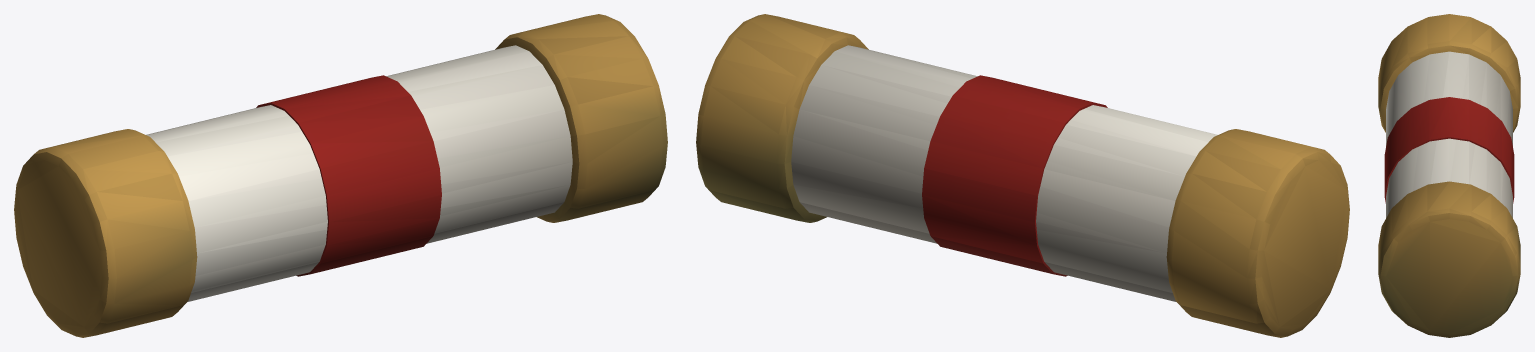
File: Fuse.glb
3 renders of one model, left to right at view 1: azimuth 30°, elevation 25°; view 2: azimuth 150°, elevation 25°; view 3: azimuth 270°, elevation 25°, orthographic. The views are drawn at different scales.
Parts seen in each view (by area): view 1: Fuse_brass, Fuse_ceramic, Fuse_paint_red; view 2: Fuse_brass, Fuse_ceramic, Fuse_paint_red; view 3: Fuse_brass, Fuse_ceramic, Fuse_paint_red.
Boxes of the visible parts, x1,y1,x2,y2 form: Fuse_brass: (14,14,667,337); Fuse_ceramic: (146,45,572,301); Fuse_paint_red: (256,75,441,276); Fuse_brass: (696,14,1349,337); Fuse_ceramic: (791,45,1217,301); Fuse_paint_red: (922,75,1107,276); Fuse_brass: (1378,14,1520,337); Fuse_ceramic: (1386,51,1512,217); Fuse_paint_red: (1384,97,1514,203).
Bounding box in the file's own units: 0.6 × 0.18 × 0.18.
